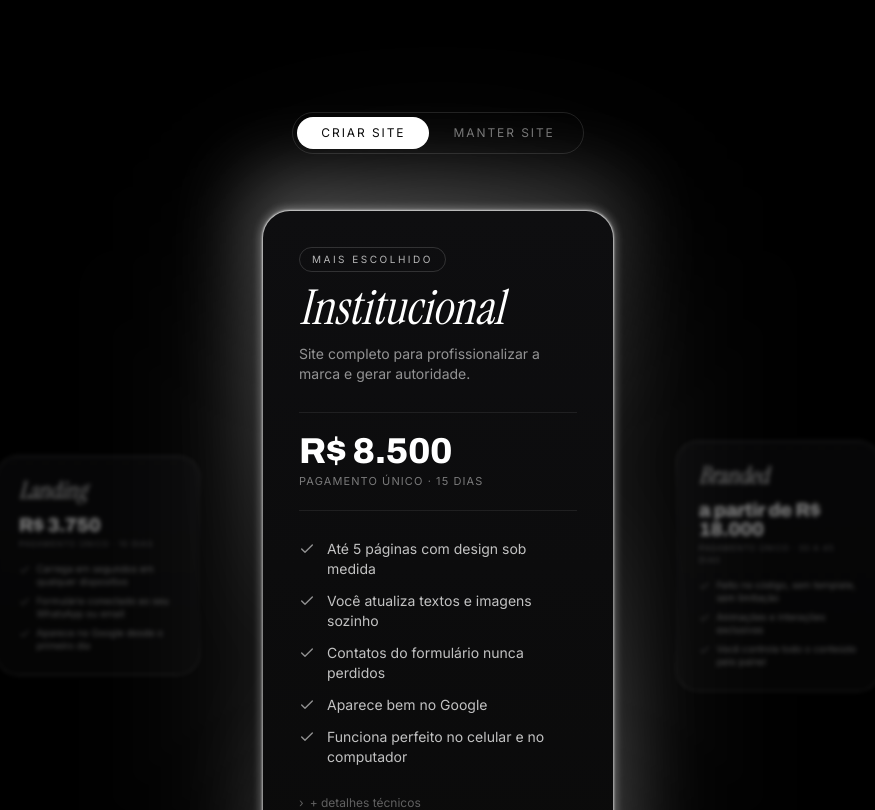
Test: SpotlightStage › switches to manter plans and resets active to Crescimento
Click the tab "Manter site" at (504, 133), box [430, 117, 579, 149]
(page scrolled)
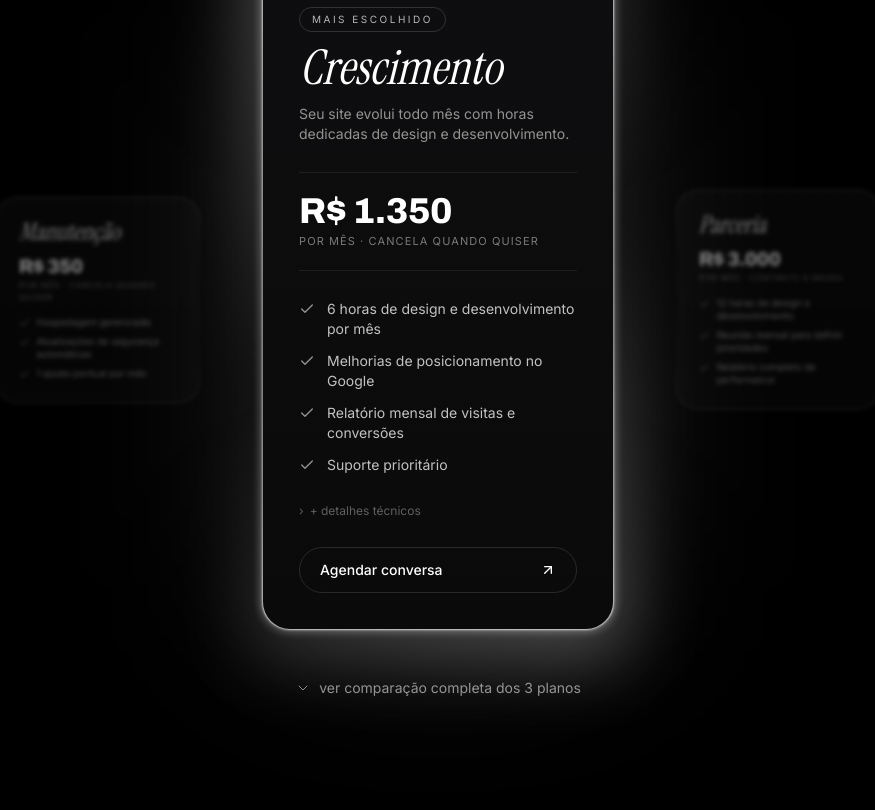
Check: the heading "Crescimento" is shown, box [299, 36, 502, 99]
